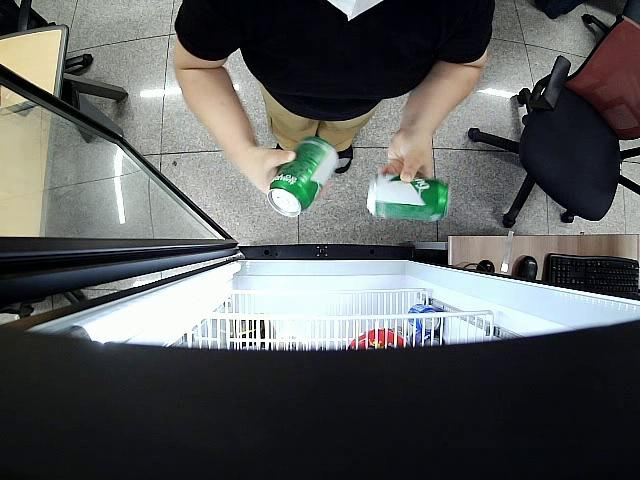00_hand: (243, 147, 328, 201), (375, 135, 434, 185)
12_chilsungCider: (269, 135, 339, 218), (365, 173, 451, 224)
